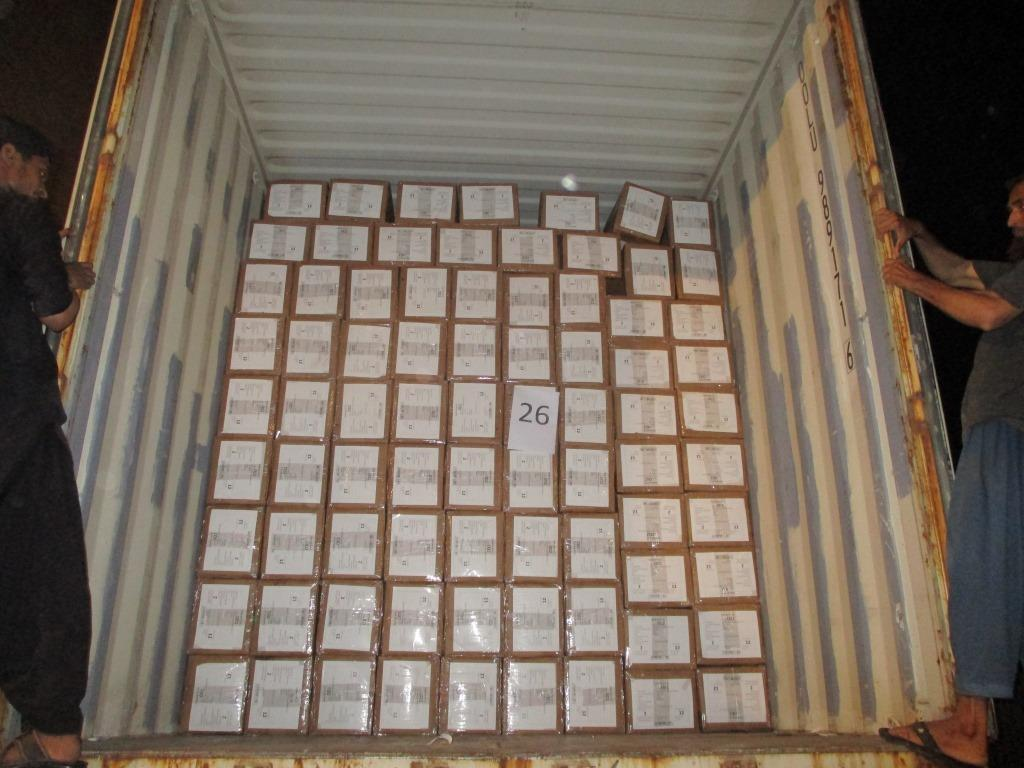carton: (180, 655, 249, 734), (250, 580, 319, 656), (188, 579, 257, 655), (372, 656, 438, 734), (310, 655, 375, 734), (316, 580, 384, 655), (246, 656, 311, 733), (197, 506, 264, 578), (697, 666, 771, 731), (438, 657, 501, 733), (502, 657, 564, 734), (564, 580, 624, 658), (624, 669, 698, 732), (564, 657, 625, 733), (260, 506, 324, 578), (380, 582, 443, 655), (622, 607, 695, 669), (383, 509, 445, 582), (207, 436, 273, 504), (321, 507, 384, 578), (503, 583, 564, 656), (619, 547, 692, 607), (693, 603, 764, 664), (267, 437, 329, 506), (444, 511, 504, 582), (443, 583, 502, 655), (504, 512, 562, 583), (688, 546, 758, 604), (328, 441, 387, 508), (617, 493, 687, 549), (217, 373, 279, 436), (443, 443, 502, 509), (275, 376, 335, 440), (502, 445, 558, 513), (387, 442, 444, 508), (559, 445, 615, 512), (562, 513, 618, 580), (332, 379, 391, 442), (684, 491, 752, 545), (614, 439, 683, 492), (281, 316, 339, 377), (502, 382, 558, 445), (390, 380, 446, 443), (447, 381, 503, 444), (224, 316, 284, 374), (607, 184, 668, 241), (558, 385, 614, 447), (681, 438, 746, 491), (614, 387, 679, 439), (337, 320, 393, 379), (677, 388, 744, 437), (445, 321, 500, 380), (392, 320, 447, 379), (608, 340, 673, 389), (290, 261, 346, 317), (555, 326, 608, 385), (343, 265, 398, 321), (234, 261, 291, 315), (553, 269, 607, 326), (502, 326, 555, 384), (448, 266, 502, 321), (623, 240, 675, 297), (672, 341, 734, 388), (607, 294, 669, 341), (436, 221, 497, 268), (397, 266, 451, 319), (501, 271, 553, 326), (497, 227, 560, 271), (309, 221, 373, 264), (561, 231, 622, 275), (374, 222, 435, 266), (326, 179, 388, 222), (262, 180, 327, 221), (393, 181, 456, 223), (674, 246, 723, 300), (246, 219, 309, 261), (666, 299, 726, 343), (459, 184, 521, 226), (664, 198, 714, 249), (538, 191, 599, 230)
